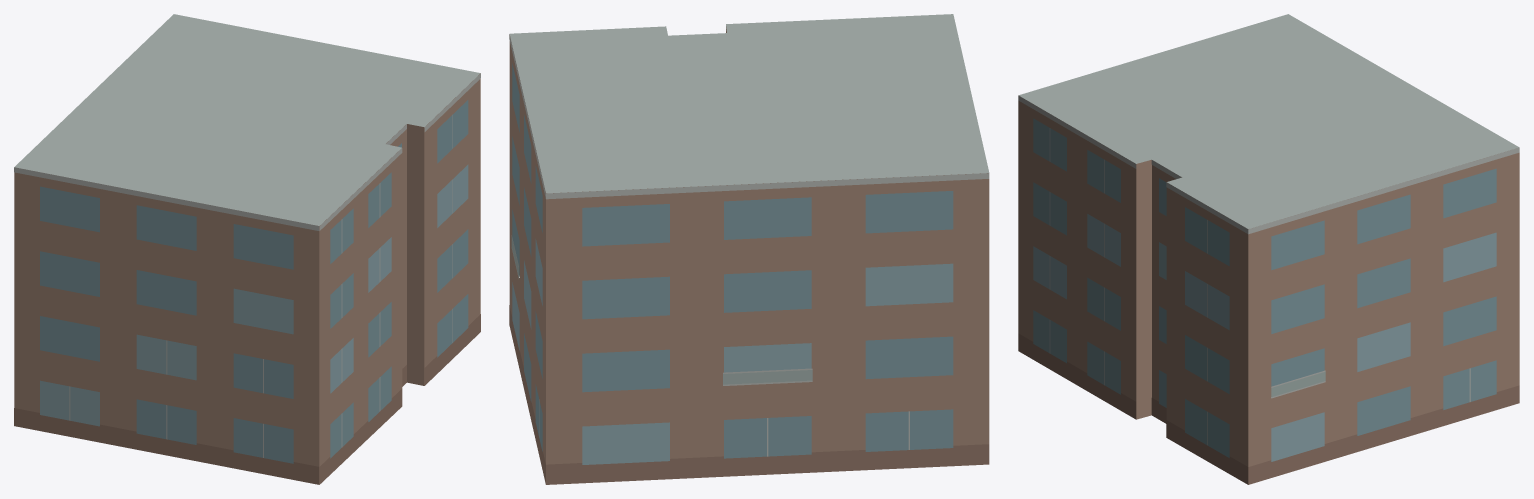
File: survey-upis-32770164.glb
The picture shows the model from 3 angles, left to right: view 1: azimuth 30°, elevation 25°; view 2: azimuth 150°, elevation 25°; view 3: azimuth 270°, elevation 25°; orthographic projection. The views are drawn at different scales.
Parts seen in each view (by area): view 1: survey-upis-32770164.tmp; view 2: survey-upis-32770164.tmp; view 3: survey-upis-32770164.tmp.
Part boxes in pixels (x1,y1,x2,y2): survey-upis-32770164.tmp: (14,14,480,484); survey-upis-32770164.tmp: (509,14,989,484); survey-upis-32770164.tmp: (1018,14,1519,484).
Bounding box in the file's own units: 22.03 × 12.2 × 21.68.
